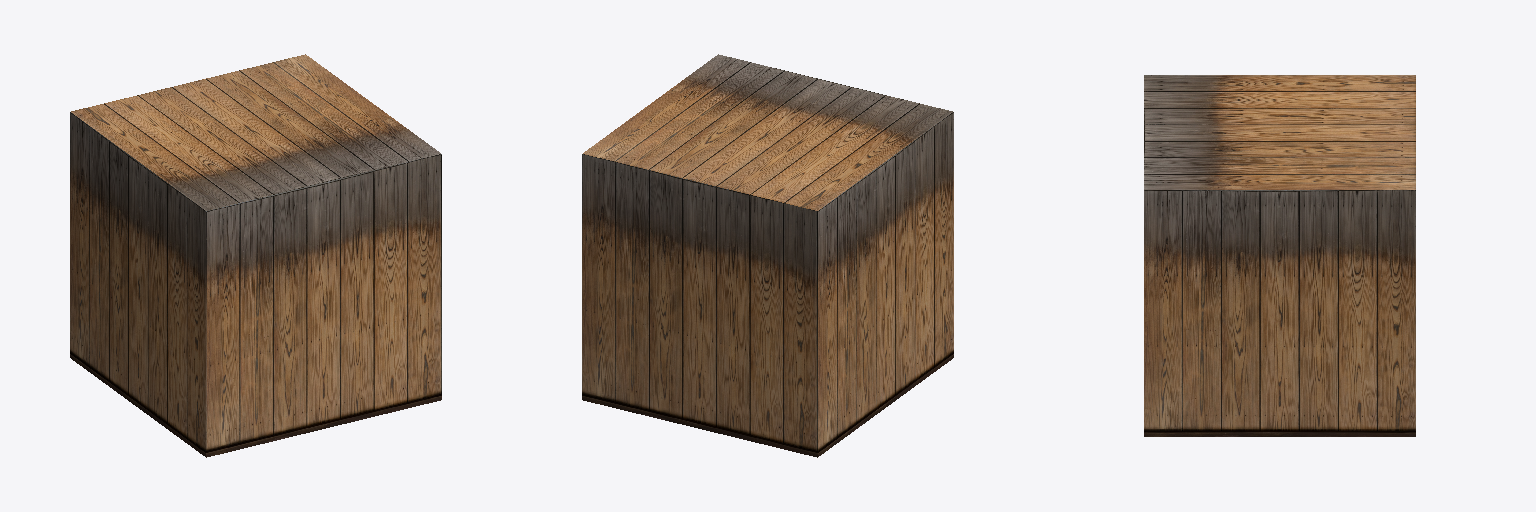
The picture shows the model from 3 angles: view 1: azimuth 30°, elevation 25°; view 2: azimuth 150°, elevation 25°; view 3: azimuth 270°, elevation 25°; orthographic projection.
Visible parts, largest first — view 1: Cube; view 2: Cube; view 3: Cube.
Boxes of the visible parts, box(x1,y1,x2,y2) form: Cube: box(70, 54, 441, 457); Cube: box(582, 54, 953, 457); Cube: box(1144, 75, 1415, 436).
Bounding box in the file's own units: 2 × 2 × 2.
Materials: 1 (1 with a texture image).